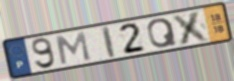2: (118, 22, 146, 56)
9: (30, 37, 58, 71)
I: (100, 25, 118, 59)
M: (54, 30, 92, 66)
Q: (146, 17, 179, 50)
X: (170, 9, 213, 46)
